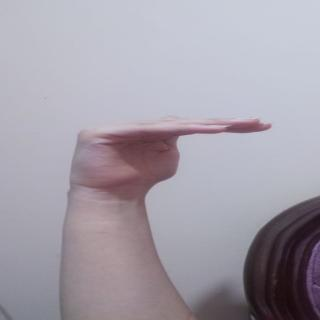KHAA: (72, 114, 274, 192)
